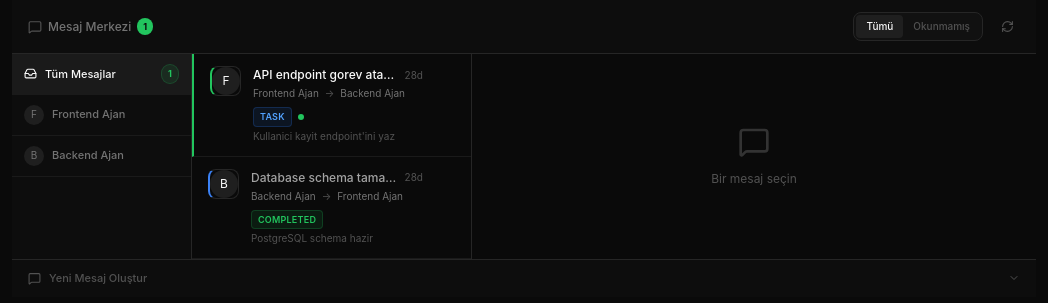
Test: MessageCenter — mesaj secimi ve thread goruntuleme › thread acik iken mesaj konusu h3 basliginda gosterilmeli
The width and height of the screenshot is (1048, 303).
Click the text "API endpoint gorev atamasi": (325, 75) [253,66,397,84]
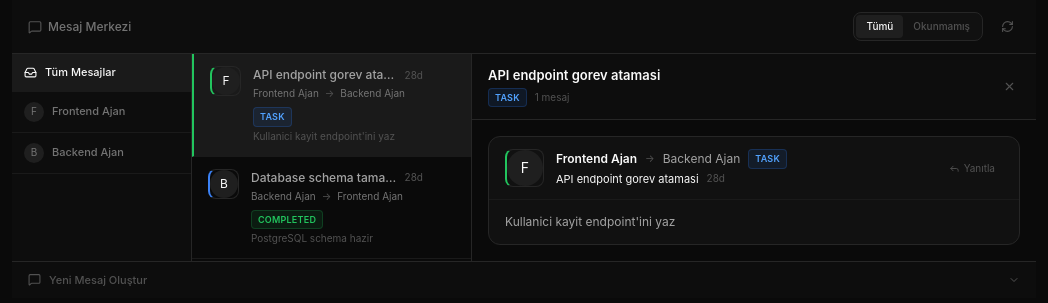
Expected: the heading "API endpoint gorev atamasi" is shown, [488,67,660,83]
